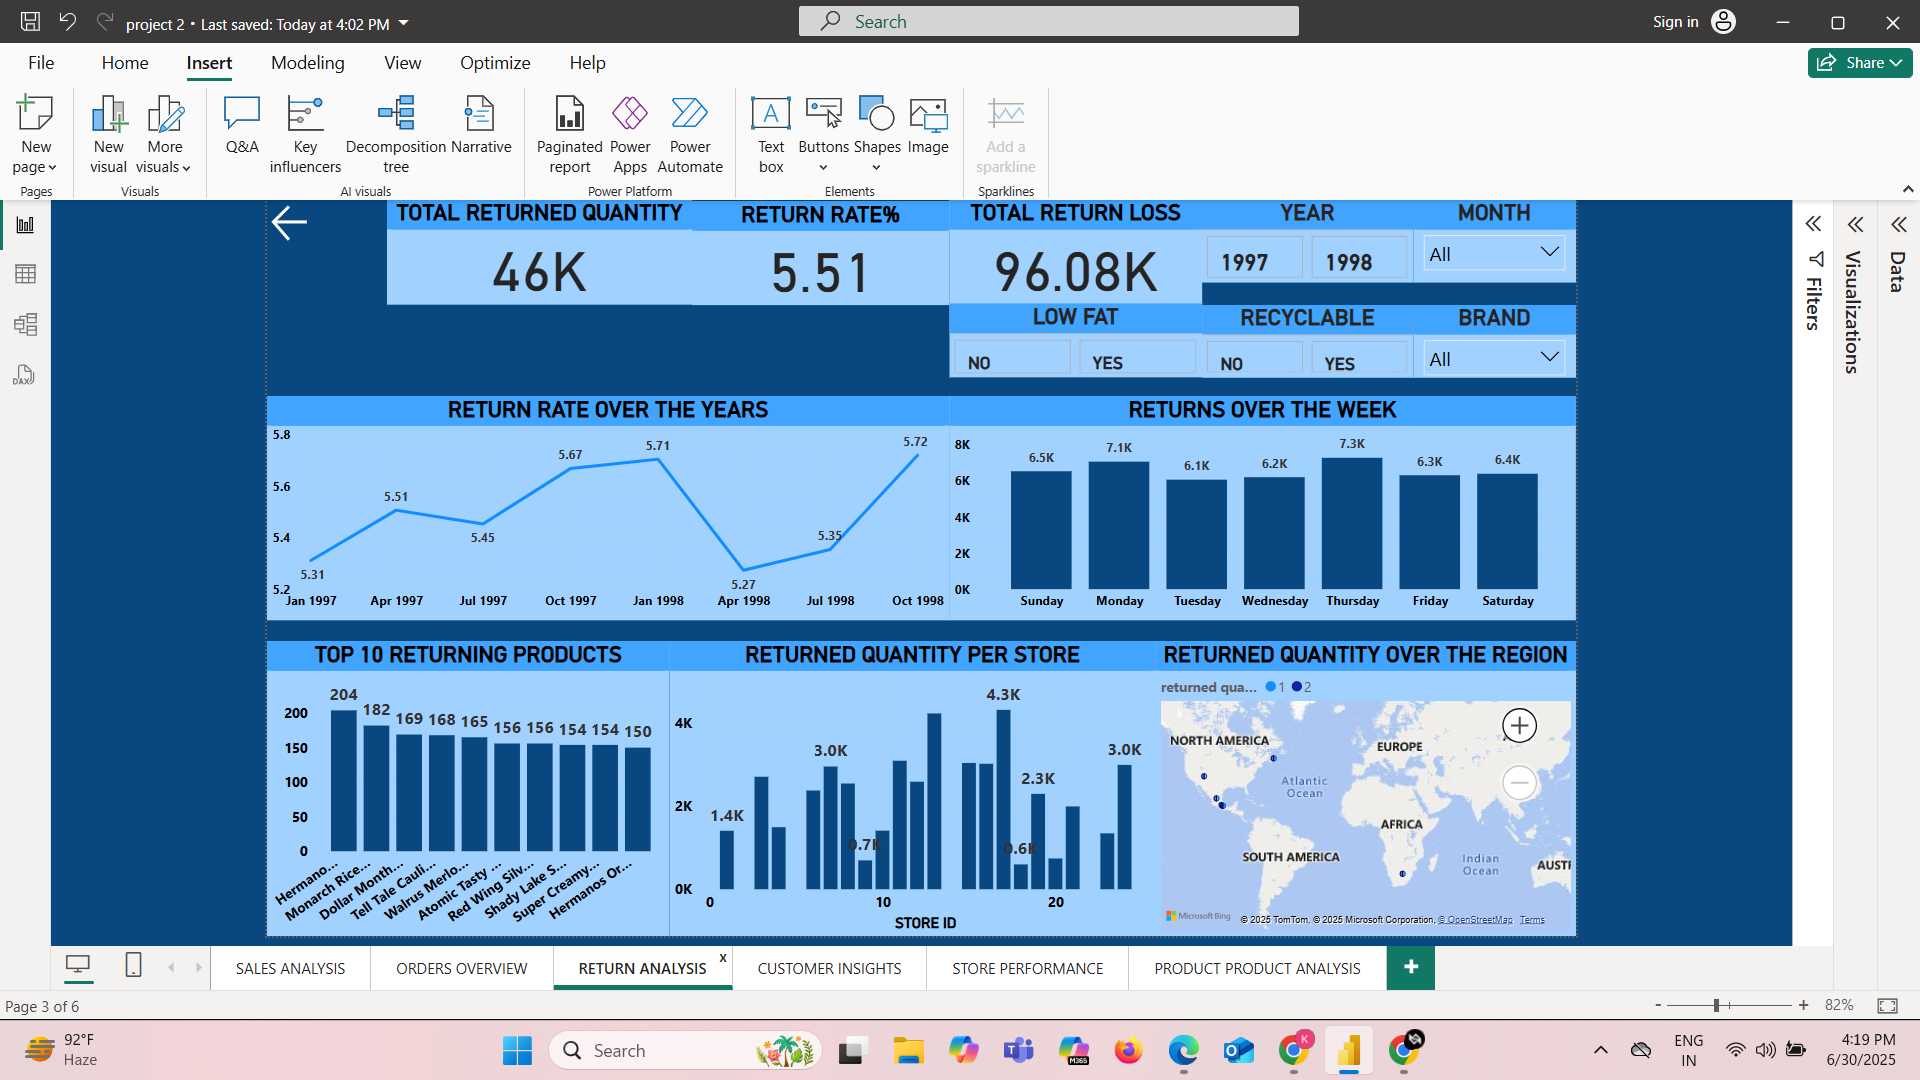

The dashboard page shown, as its layout file describes it:
{"tool":"powerbi","page":{"name":"RETURN ANALYSIS","canvas":[1280,720],"ordinal":2},"visuals":[{"type":"columnChart","title":"RETURNED QUANTITY PER STORE","fields":{"Y":["returns.MavenMarket_Returns_1997-1998.quantity"],"Category":["stores.store_id"]},"box":[393.8,431.7,475.7,288.6],"z":0},{"type":"columnChart","title":"TOP 10 RETURNING PRODUCTS","fields":{"Category":["products.product_name"],"Y":["returns.returned quaantity"]},"box":[0,431.7,393.8,288.6],"z":1000},{"type":"card","title":"TOTAL RETURNED QUANTITY","fields":{"Values":["returns.returned quaantity"]},"box":[117.4,0,298.4,102.7],"z":2000},{"type":"map","title":"RETURNED QUANTITY OVER THE REGION","fields":{"Category":["regions.sales_region"],"Series":["returns.returned quaantity"]},"box":[869.4,431.7,410.9,288.6],"z":3000},{"type":"card","title":"RETURN RATE%","fields":{"Values":["transactions.RETURN RATE"]},"box":[415.8,1.2,251.9,101.5],"z":4000},{"type":"card","title":"TOTAL RETURN LOSS","fields":{"Values":["transactions.Return Loss"]},"box":[667.7,0,247,101.5],"z":5000},{"type":"lineChart","title":"RETURN RATE OVER THE YEARS","fields":{"Y":["transactions.RETURN RATE"],"Category":["calendar.date.Variation.Date Hierarchy.Year","calendar.date.Variation.Date Hierarchy.Quarter"]},"box":[0,192,667.7,218.9],"z":6000},{"type":"advancedSlicerVisual","title":"YEAR","fields":{"Values":["calendar.Year"]},"box":[914.7,0,206.7,80.7],"z":7000},{"type":"advancedSlicerVisual","title":"RECYCLABLE","fields":{"Values":["products.recyclable"]},"box":[914.7,102.7,206.7,70.9],"z":8000},{"type":"advancedSlicerVisual","title":"LOW FAT","fields":{"Values":["products.low_fat"]},"box":[667.7,101.5,247,72.1],"z":9000},{"type":"slicer","title":"MONTH","fields":{"Values":["calendar.Month Name"]},"box":[1121.3,0,159,80.7],"z":10000},{"type":"columnChart","title":"RETURNS OVER THE WEEK","fields":{"Category":["calendar.Day Name"],"Y":["returns.returned quaantity"]},"box":[667.7,192,612.6,218.9],"z":11000},{"type":"slicer","title":"BRAND","fields":{"Values":["products.product_brand"]},"box":[1121.3,102.7,159,70.9],"z":12000},{"type":"actionButton","box":[0,0,88,45.2],"z":12001}]}

Visuals, with their boxes on the page's 1280x720 design canvas (x1, y1, x2, y2). These are canvas units, not pixel positions in the 1920x1080 screenshot, which may show the page scaled, cropped or inside an application window:
"RETURNED QUANTITY PER STORE" columnChart: l=394, t=432, r=870, b=720
"TOP 10 RETURNING PRODUCTS" columnChart: l=0, t=432, r=394, b=720
"TOTAL RETURNED QUANTITY" card: l=117, t=0, r=416, b=103
"RETURNED QUANTITY OVER THE REGION" map: l=869, t=432, r=1280, b=720
"RETURN RATE%" card: l=416, t=1, r=668, b=103
"TOTAL RETURN LOSS" card: l=668, t=0, r=915, b=102
"RETURN RATE OVER THE YEARS" lineChart: l=0, t=192, r=668, b=411
"YEAR" advancedSlicerVisual: l=915, t=0, r=1121, b=81
"RECYCLABLE" advancedSlicerVisual: l=915, t=103, r=1121, b=174
"LOW FAT" advancedSlicerVisual: l=668, t=102, r=915, b=174
"MONTH" slicer: l=1121, t=0, r=1280, b=81
"RETURNS OVER THE WEEK" columnChart: l=668, t=192, r=1280, b=411
"BRAND" slicer: l=1121, t=103, r=1280, b=174
actionButton: l=0, t=0, r=88, b=45
